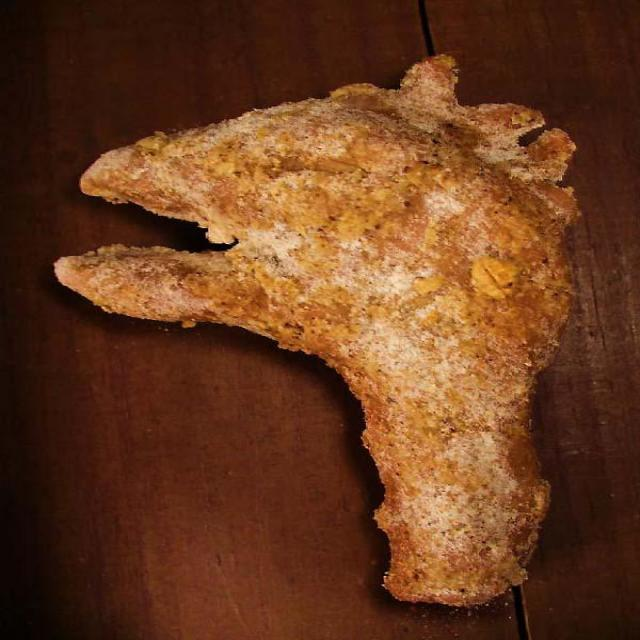chicken: (51, 56, 580, 604)
